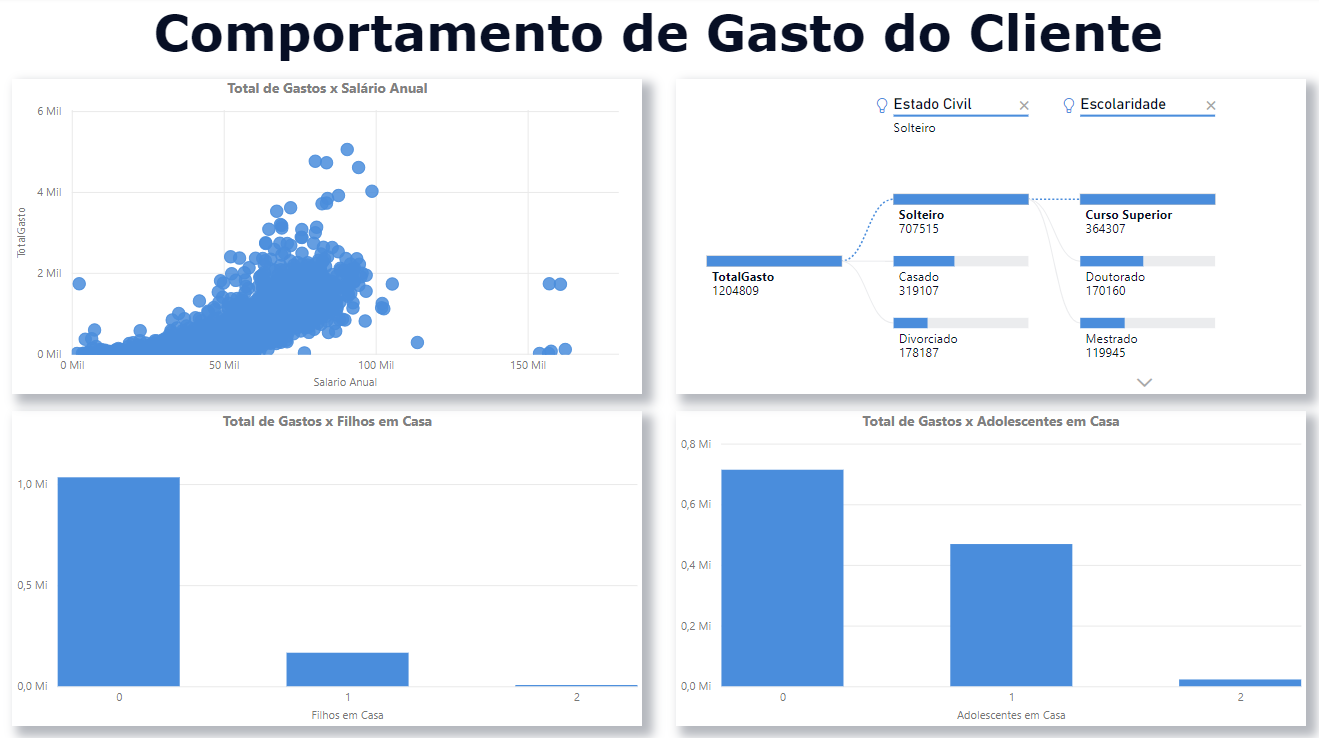

This screenshot's page, from the dashboard's own definition file:
{"tool":"powerbi","page":{"name":"Visão Comportamento","canvas":[1280,720],"ordinal":1},"visuals":[{"type":"scatterChart","title":"Total de Gastos x Salário Anual","fields":{"Y":["DadosMarketing.TotalGasto"],"X":["DadosMarketing.Salario Anual"]},"box":[16,80,608,304],"z":0},{"type":"decompositionTreeVisual","fields":{"Analyze":["DadosMarketing.TotalGasto"],"ExplainBy":["DadosMarketing.Estado Civil","DadosMarketing.Escolaridade"]},"box":[656,80,608,304],"z":3000},{"type":"textbox","box":[11.5,0,1253.7,90.6],"z":6000},{"type":"columnChart","title":"Total de Gastos x Filhos em Casa","fields":{"Y":["DadosMarketing.TotalGasto"],"Category":["DadosMarketing.Filhos em Casa"]},"box":[16,400,608,304],"z":7000},{"type":"columnChart","title":"Total de Gastos x Adolescentes em Casa","fields":{"Category":["DadosMarketing.Adolescentes em Casa"],"Y":["DadosMarketing.TotalGasto"]},"box":[656,400,608,304],"z":8000}]}

Visuals, with their boxes in screenshot pixels (x1, y1, x2, y2), scaled from the page's 1280x720 canvas onto the 1319x738 screenshot:
"Total de Gastos x Salário Anual" scatterChart: detection(16, 82, 643, 394)
decompositionTreeVisual - DadosMarketing.TotalGasto x DadosMarketing.Estado Civil: detection(676, 82, 1303, 394)
textbox: detection(12, 0, 1304, 93)
"Total de Gastos x Filhos em Casa" columnChart: detection(16, 410, 643, 722)
"Total de Gastos x Adolescentes em Casa" columnChart: detection(676, 410, 1303, 722)
